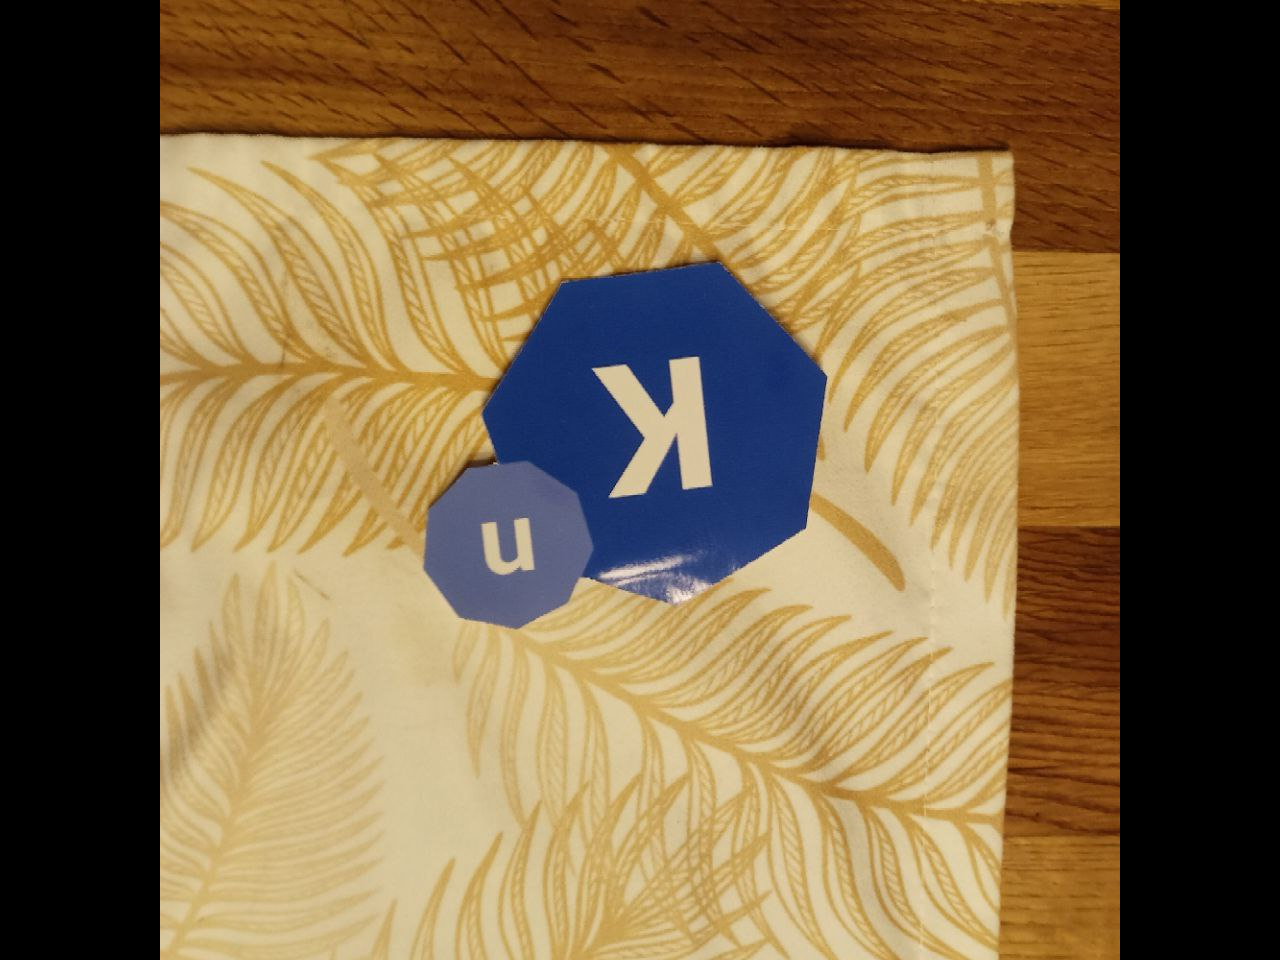knative: (422, 256, 833, 629)
